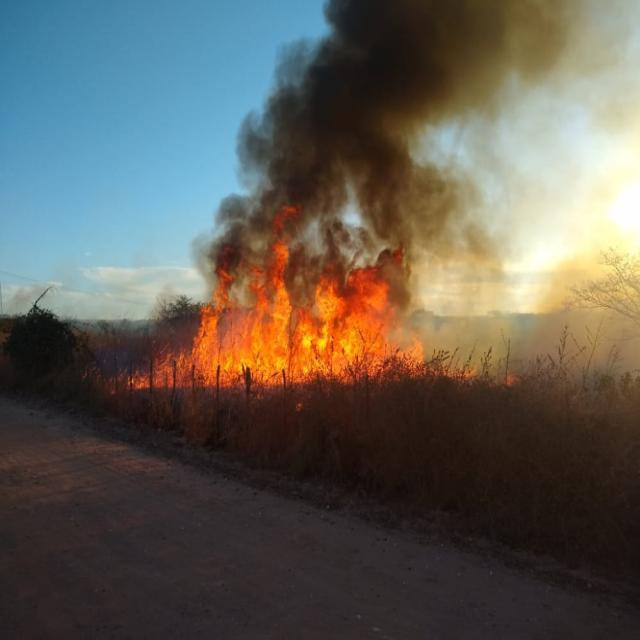Fire: (191, 238, 408, 384), (388, 339, 512, 387), (89, 356, 149, 392), (151, 344, 191, 394)
Smoke: (212, 0, 562, 235)
